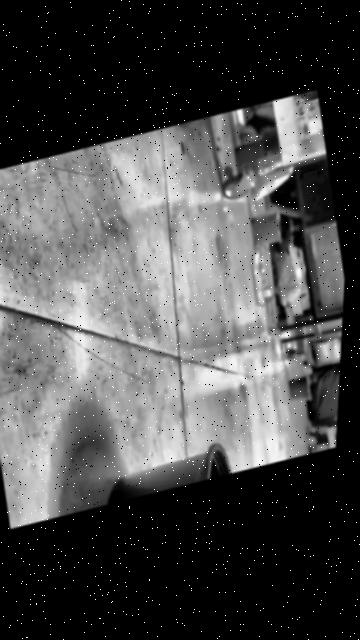pot: (101, 439, 232, 505)
